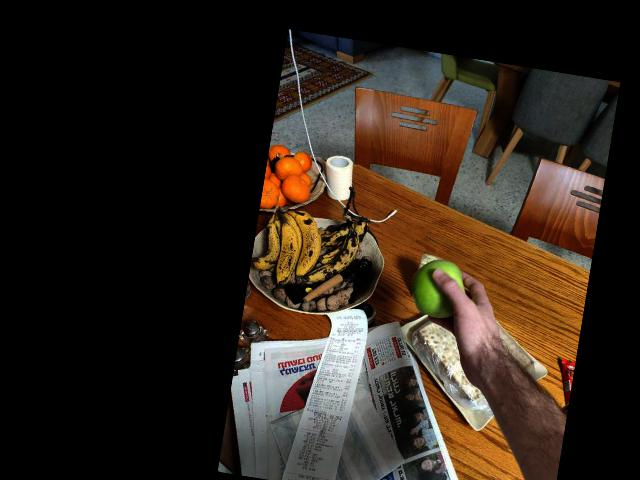apple: (406, 254, 470, 323)
